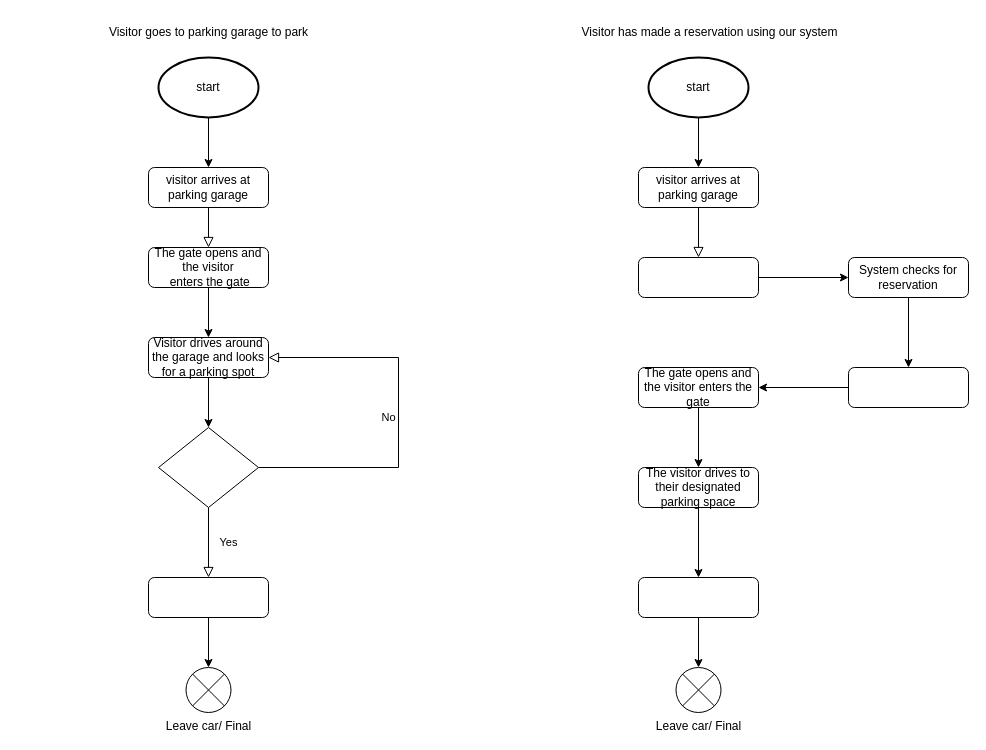
The diagram is 986 pixels wide and 750 high, and some of its shapes have lost their labels. Each missing label, with the centre of its shape:
"System send OK to the gate" belongs at point (908, 387).
"The visitor parks at the available parking space" belongs at point (208, 597).
"The visitor parks at their reserved parking space" belongs at point (698, 597).
"There's an available parking space" belongs at point (208, 467).
"visitor identifies themselves at the gate" belongs at point (698, 277).
